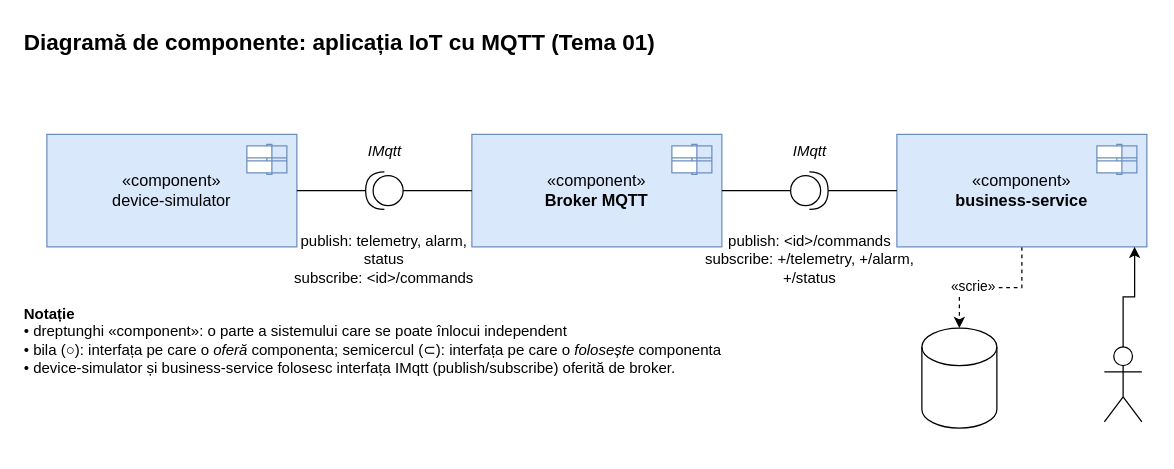
Image size: 1174x469. Some labels were removed from this diagram. The shapes that lost their labels are listed below. From the top down, each one's centre as x and y in pixels, then its label:
the point at 959,377: Fișiere CSV data/*.csv
the point at 1122,384: Operator
